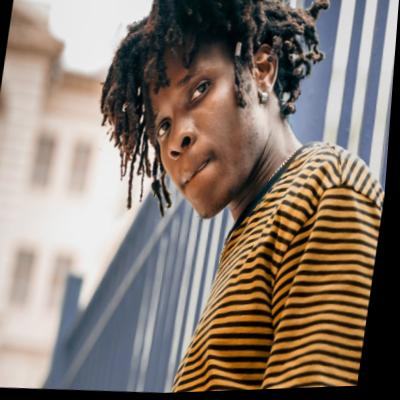netural: (137, 29, 271, 228)
